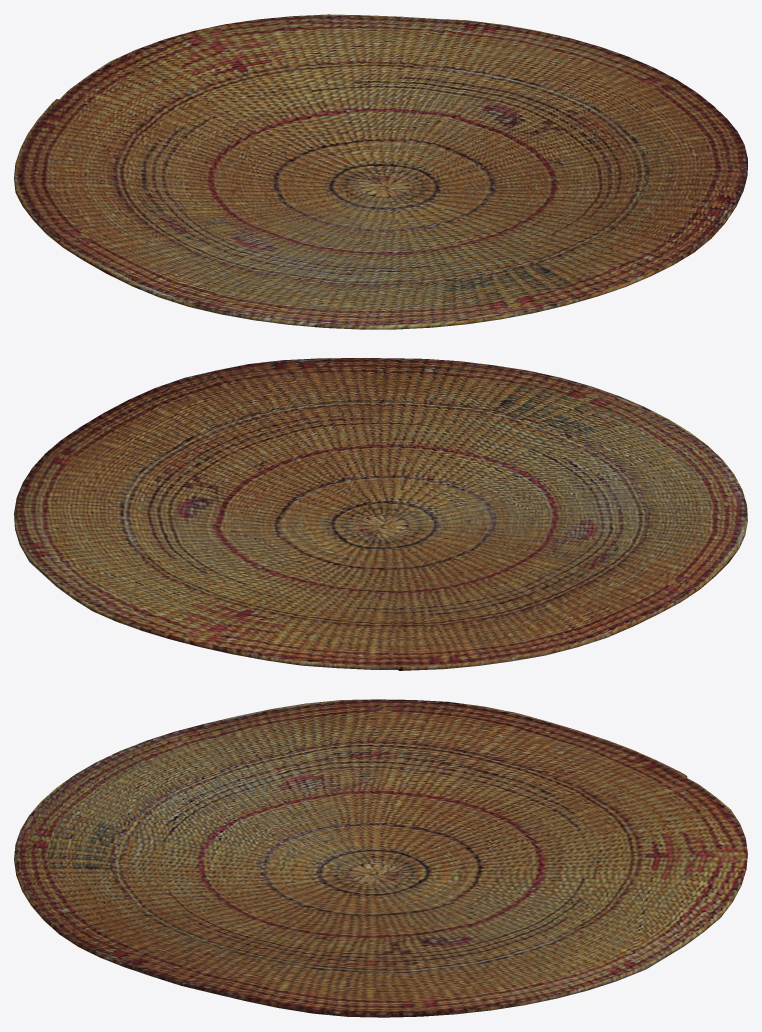
3 views of the same model, one above another, from view 1: azimuth 30°, elevation 25°; view 2: azimuth 150°, elevation 25°; view 3: azimuth 270°, elevation 25° (orthographic).
Parts seen in each view (by area): view 1: SM_Mat370; view 2: SM_Mat370; view 3: SM_Mat370.
Boxes of the visible parts, x1,y1,x2,y2 form: SM_Mat370: (14,14,747,329); SM_Mat370: (14,358,747,670); SM_Mat370: (14,699,747,1017).
Size of the model in its own units: 47.15 by 1.78 by 47.15.
Materials: 1 (1 with a texture image).
